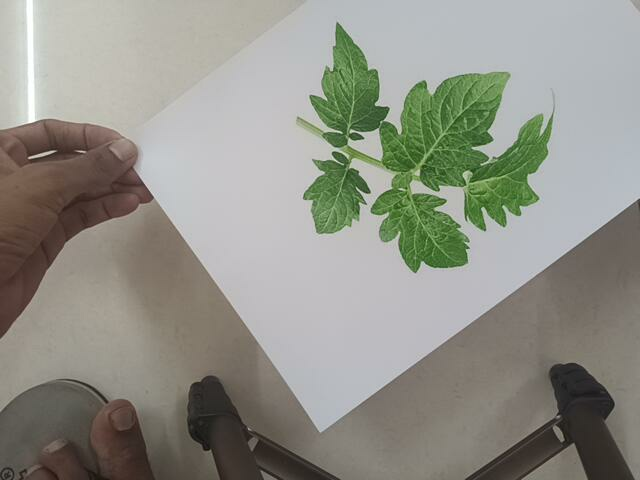Tomamto_Leaf_Healthy: (281, 15, 572, 272)
